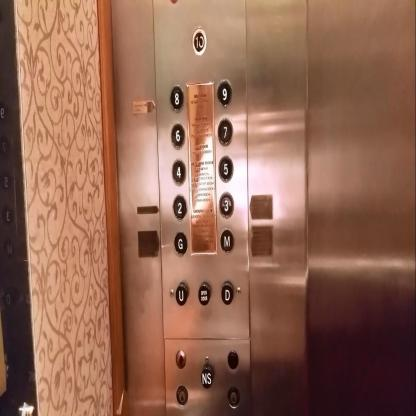10: (192, 27, 206, 55)
2: (172, 192, 187, 221)
3: (218, 192, 235, 220)
4: (171, 158, 186, 185)
5: (218, 155, 233, 182)
6: (170, 122, 185, 150)
7: (216, 117, 233, 146)
8: (169, 85, 184, 113)
9: (216, 79, 233, 108)
D: (221, 281, 234, 305)
G: (173, 231, 188, 256)
M: (219, 228, 234, 254)
NS: (199, 365, 213, 392)
U: (176, 282, 188, 305)
keyhole: (225, 384, 240, 411), (175, 382, 189, 410)
text_open door: (198, 282, 210, 306)
